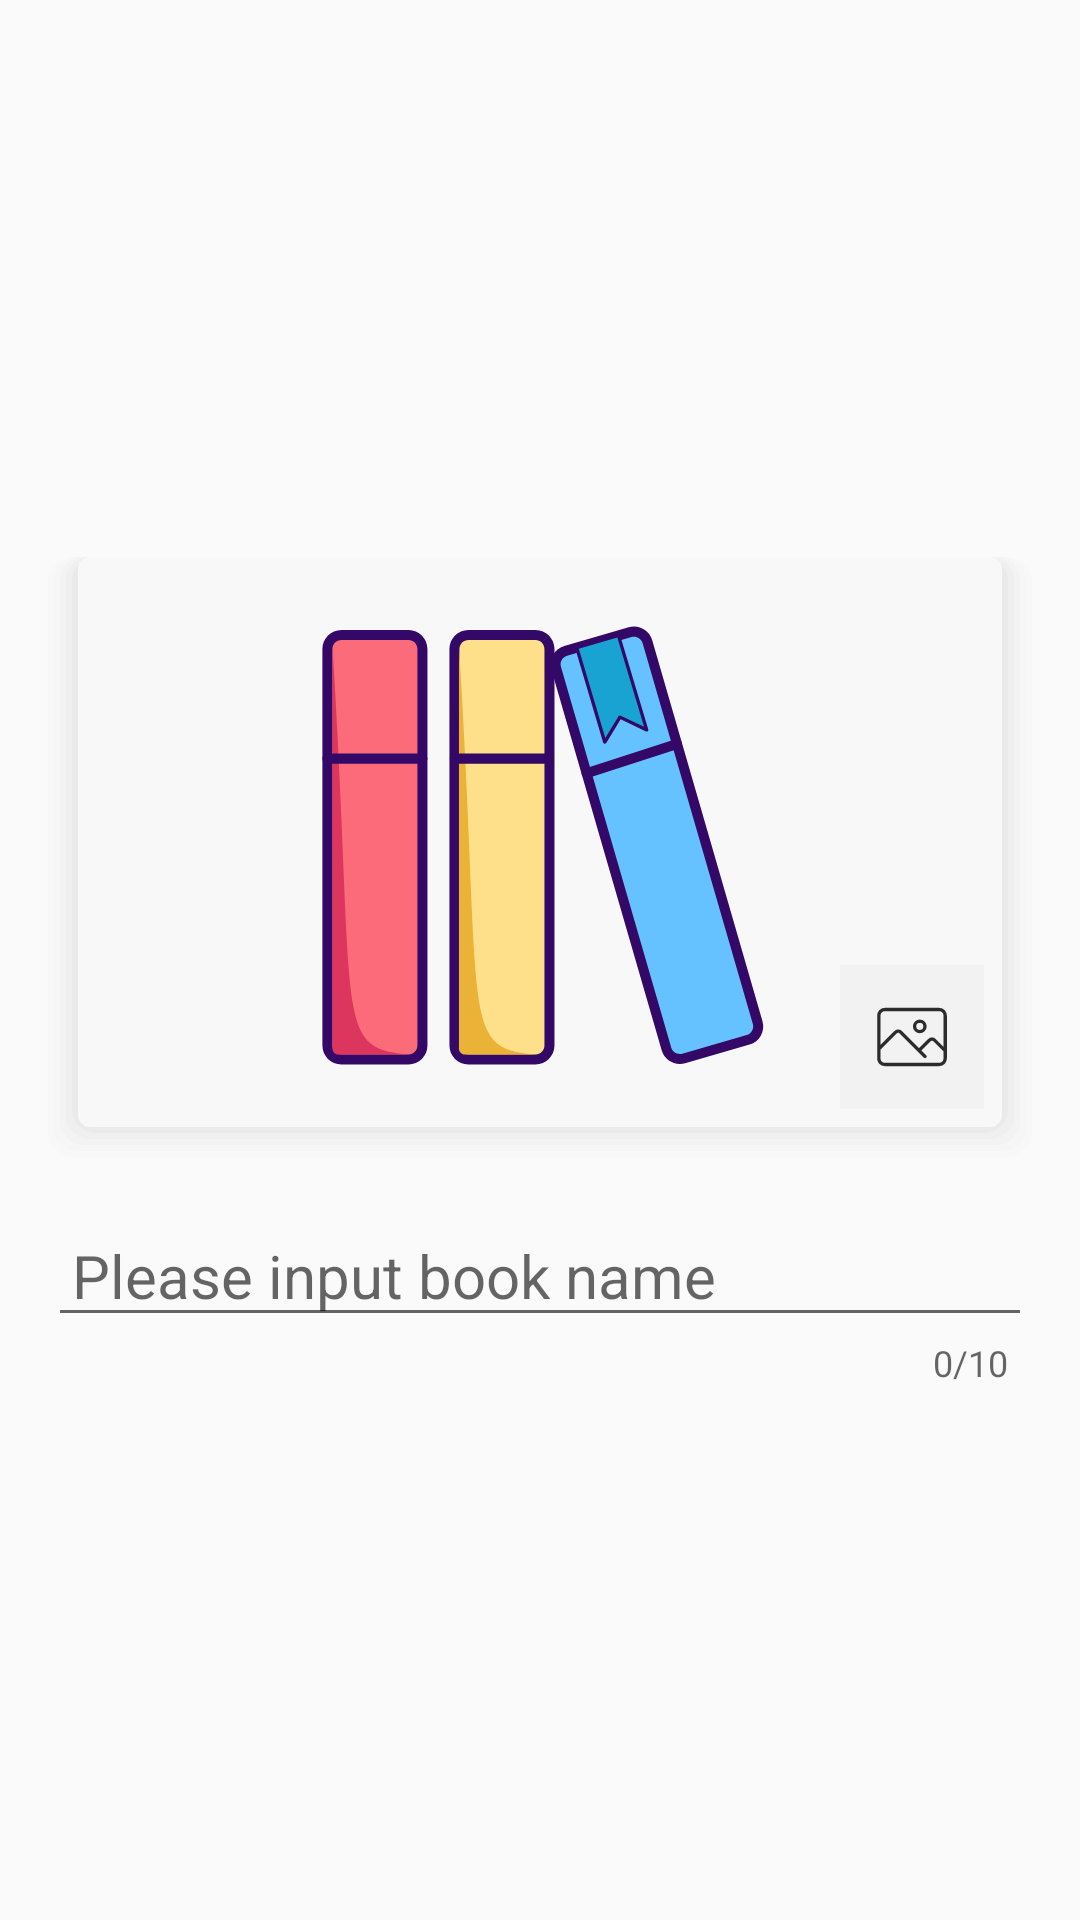

Named icons in this screenshot (1080x1920) and their centers, [x,y]:
album: [912,1037]
